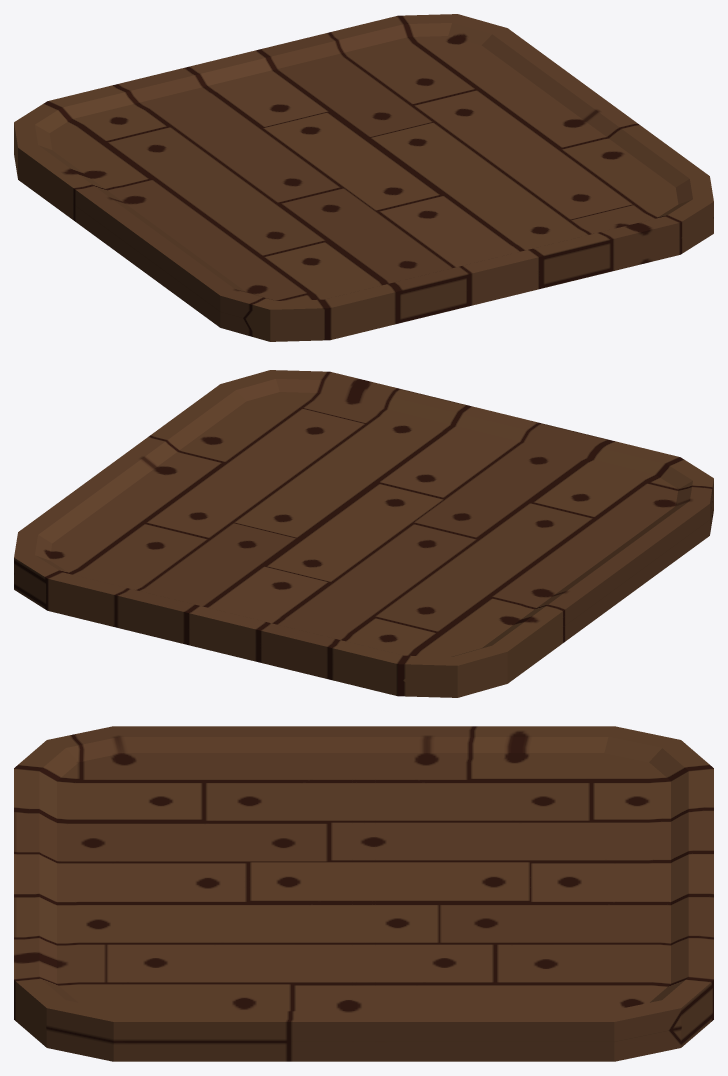
The model's file is Floor Tile.fbx.
The picture shows the model from 3 angles, top to bottom: view 1: azimuth 30°, elevation 25°; view 2: azimuth 150°, elevation 25°; view 3: azimuth 270°, elevation 25°; orthographic projection. The views are drawn at different scales.
Visible parts, largest first — view 1: Floor Tile; view 2: Floor Tile; view 3: Floor Tile.
Part boxes in pixels (x1,y1,x2,y2): Floor Tile: (14, 14, 713, 341); Floor Tile: (14, 370, 713, 697); Floor Tile: (14, 726, 713, 1061).
Bounding box in the file's own units: 0.7156 × 0.0449 × 0.7156.
